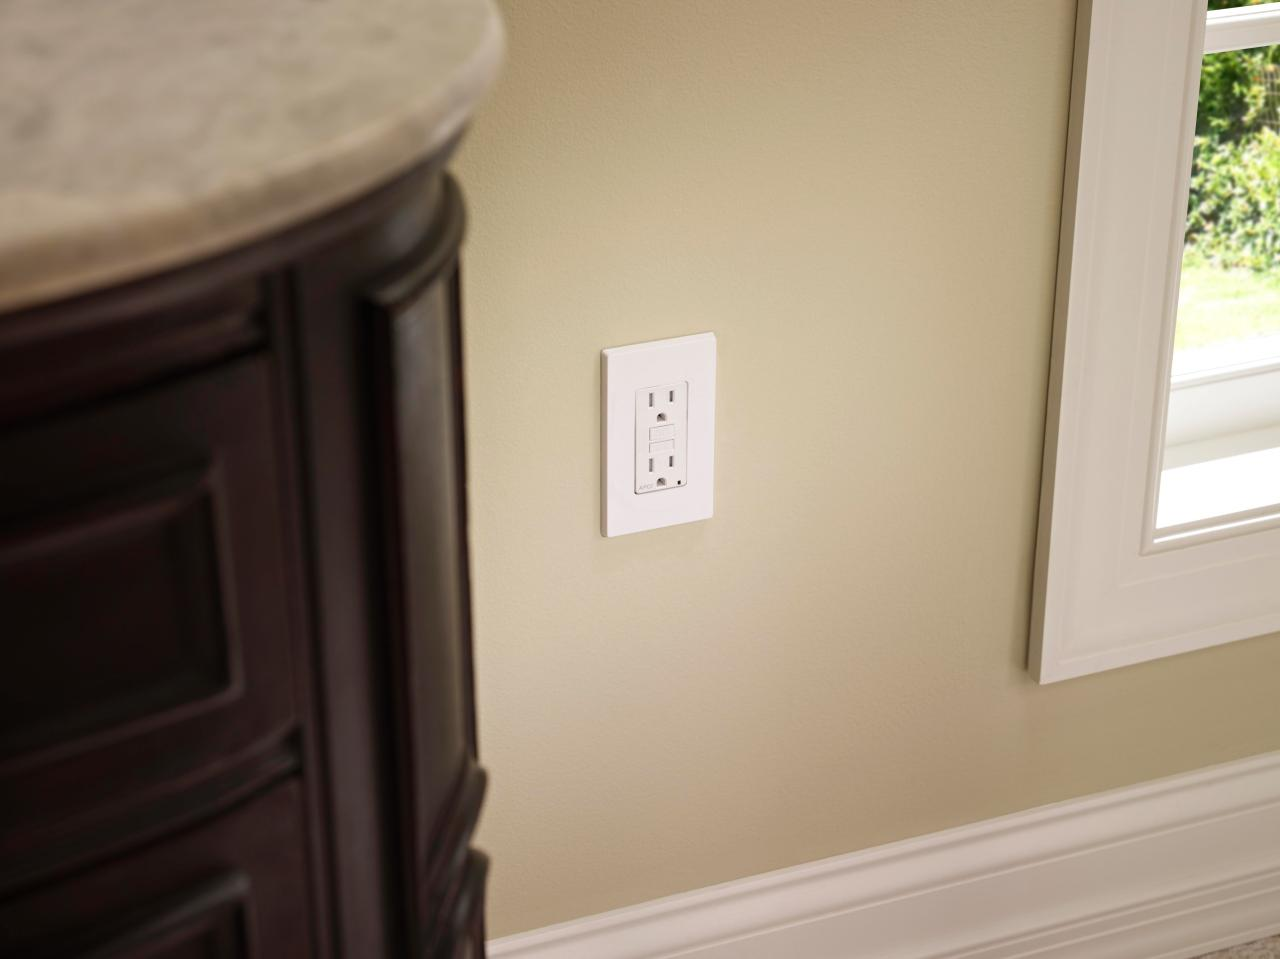outlet: (642, 384, 681, 427), (643, 452, 683, 489)
